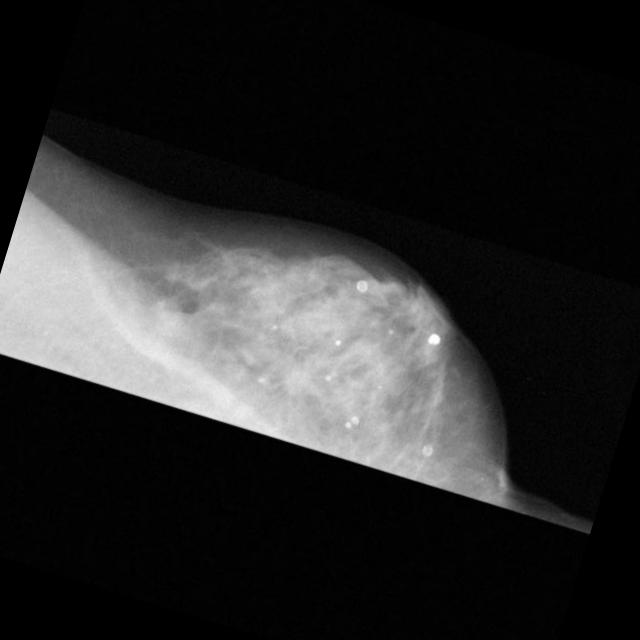SPIC: (256, 346, 330, 419)
